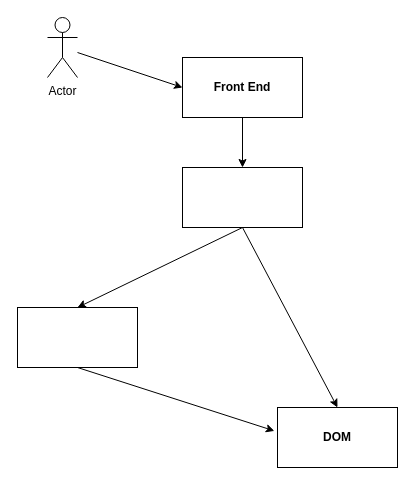
This 415x485 diagram has some shape labels left out. Each missing label, with the box of its shape:
CMS: (182, 166, 302, 228)
DSS: (16, 306, 138, 368)
